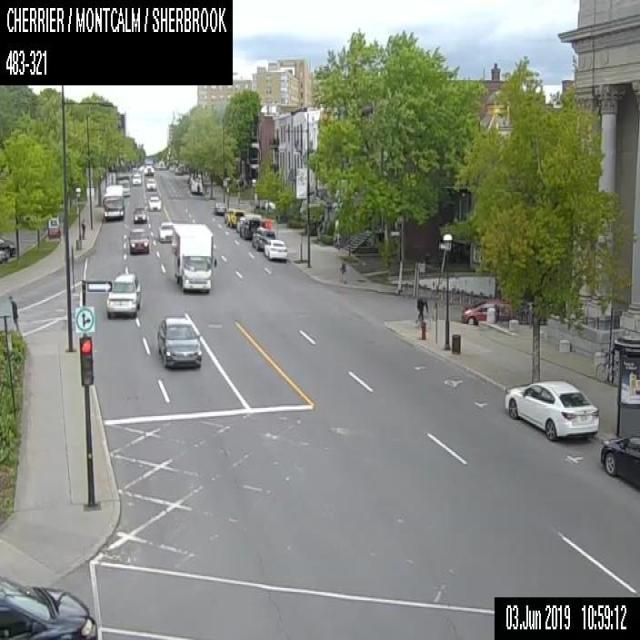bus: (100, 184, 124, 222)
pedestrian: (7, 292, 19, 331), (415, 294, 428, 322), (339, 257, 346, 284), (80, 216, 85, 239)
vehicle: (503, 376, 600, 443), (0, 572, 95, 638), (173, 223, 216, 293), (156, 314, 201, 368), (600, 432, 639, 488), (105, 272, 140, 320), (462, 298, 514, 322), (251, 226, 275, 250), (128, 227, 149, 254), (239, 216, 264, 238), (264, 239, 286, 260), (226, 207, 245, 228), (158, 221, 173, 242), (116, 173, 130, 195), (0, 236, 15, 256), (147, 193, 163, 210), (235, 214, 249, 232), (132, 204, 146, 221), (190, 177, 202, 193), (214, 200, 226, 214), (223, 207, 234, 222), (144, 157, 153, 175), (145, 177, 156, 190), (132, 172, 141, 185), (0, 249, 7, 261)
